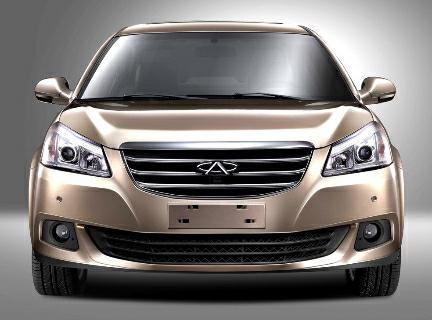奇瑞-E5: (25, 19, 408, 302)
